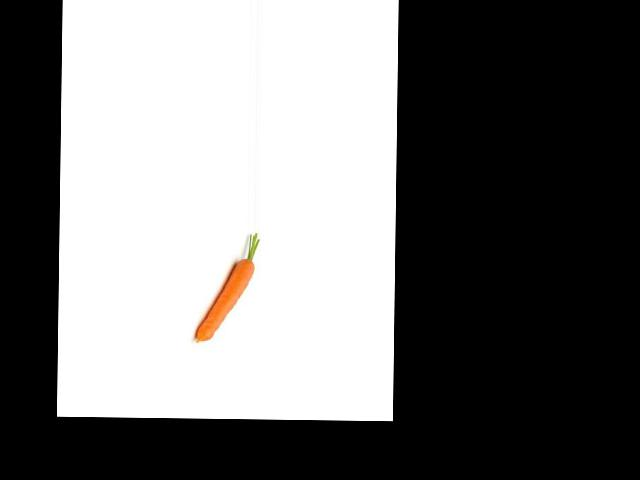carrot: (196, 255, 254, 346)
